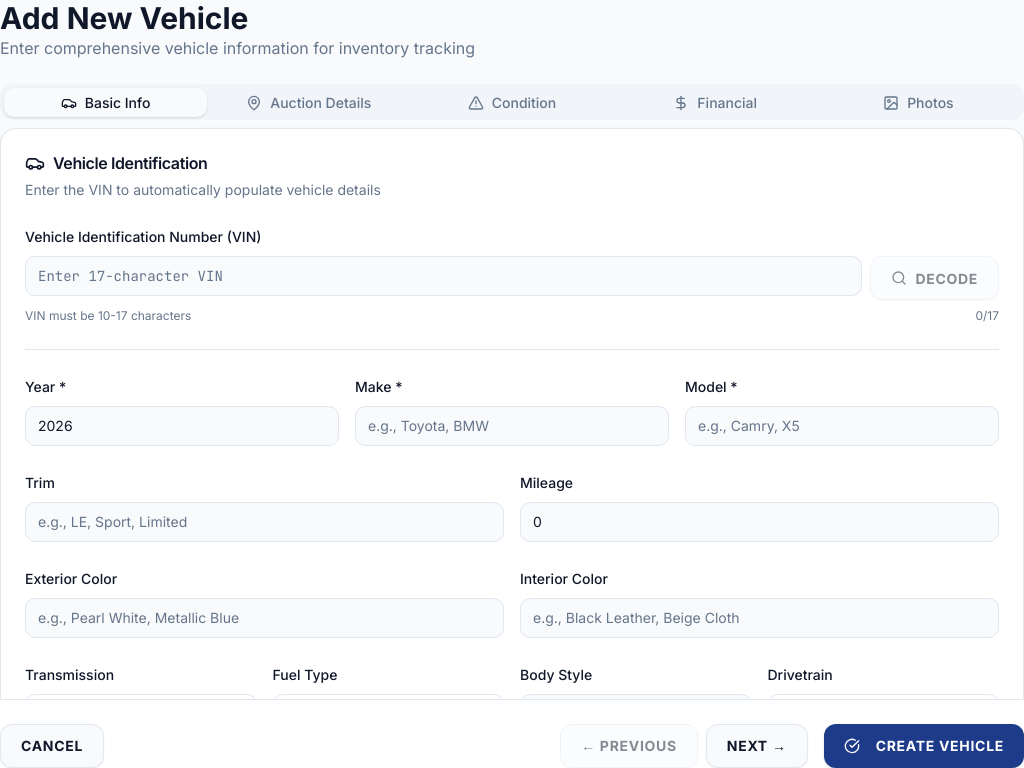
Scenario: VehicleForm › Tab Navigation › should switch between tabs
The width and height of the screenshot is (1024, 768).
# Switch to auction tab
Click the tab "Auction Details".
click(309, 102)  # box [207,88,410,117]
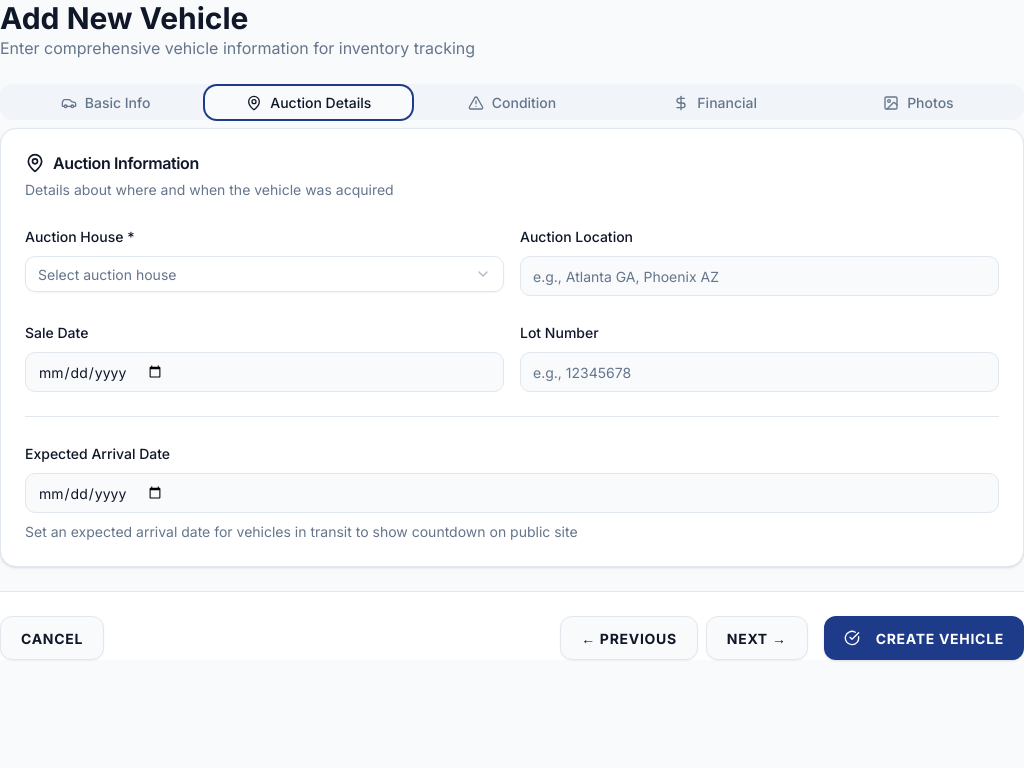
Expected: the text "Auction Information" is shown, [25,153,199,173]
Expected: the dropdown named "Auction House *" is shown, [25,256,504,292]
# Switch to condition tab
Click the tab "Condition".
click(512, 102)  # box [410,88,614,117]
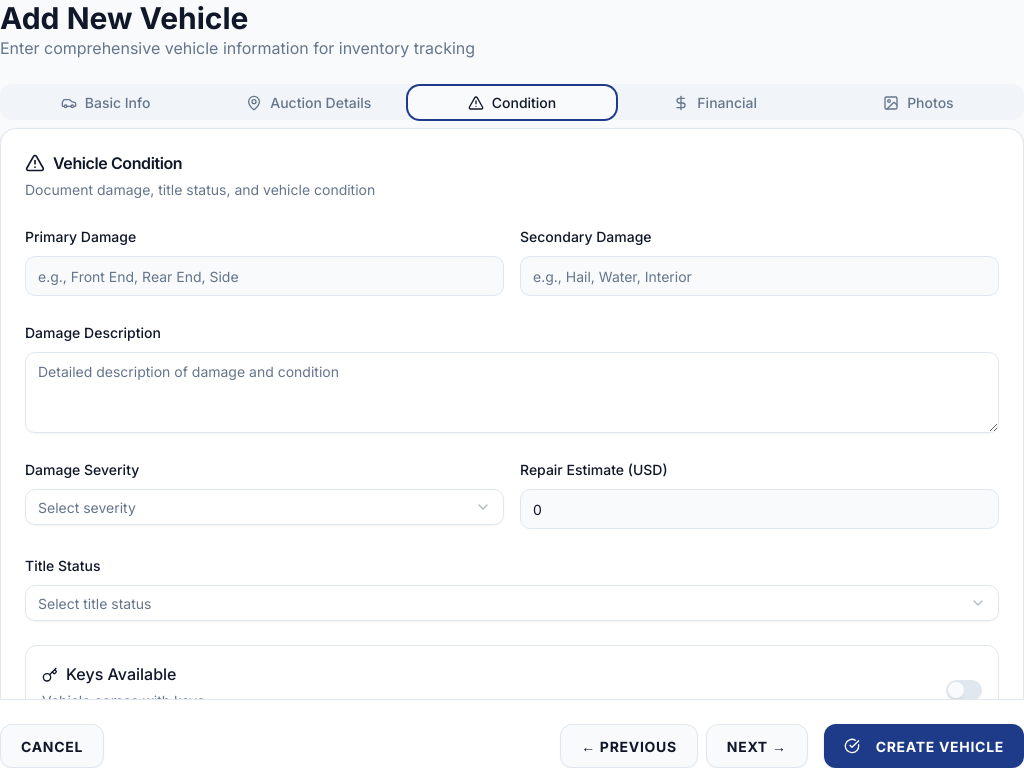
Expected: the text "Vehicle Condition" is shown, [25,153,182,173]
Expected: the field labelled "Primary Damage" is shown, [25,256,504,296]
# Switch to financial tab
Click the tab "Financial".
click(715, 102)  # box [614,88,817,117]
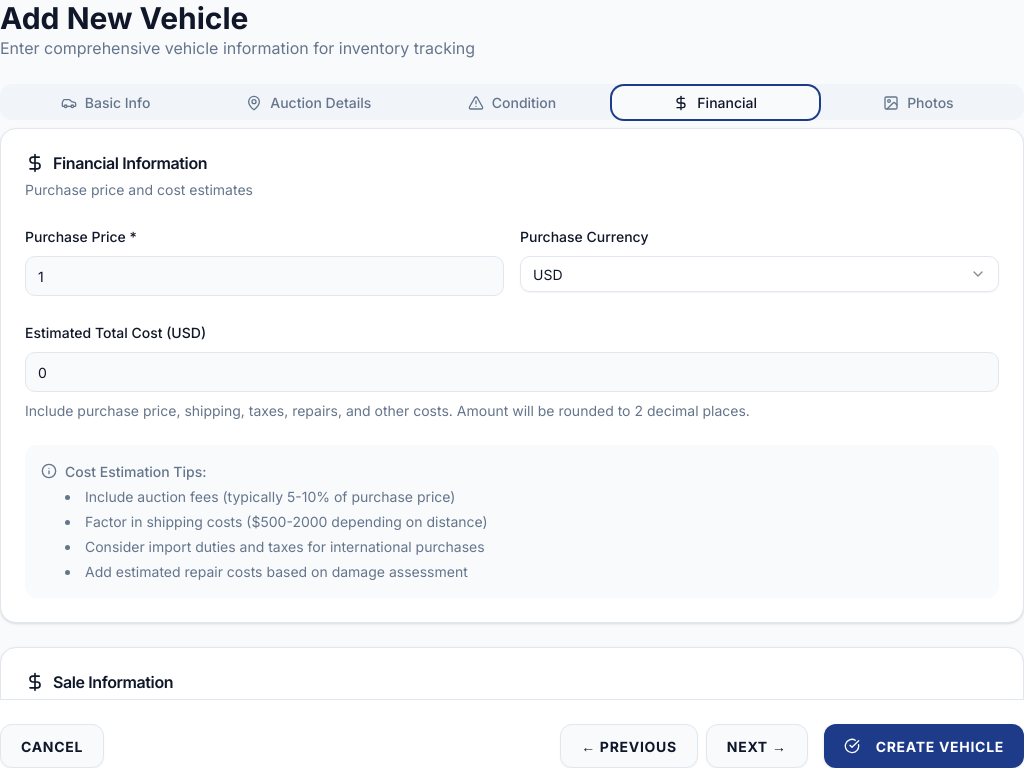
Expected: the text "Financial Information" is shown, [25,153,207,173]
Expected: the number field labelled "Purchase Price *" is shown, [25,256,504,296]
# Switch to photos tab
Click the tab "Photos".
click(918, 102)  # box [817,88,1020,117]
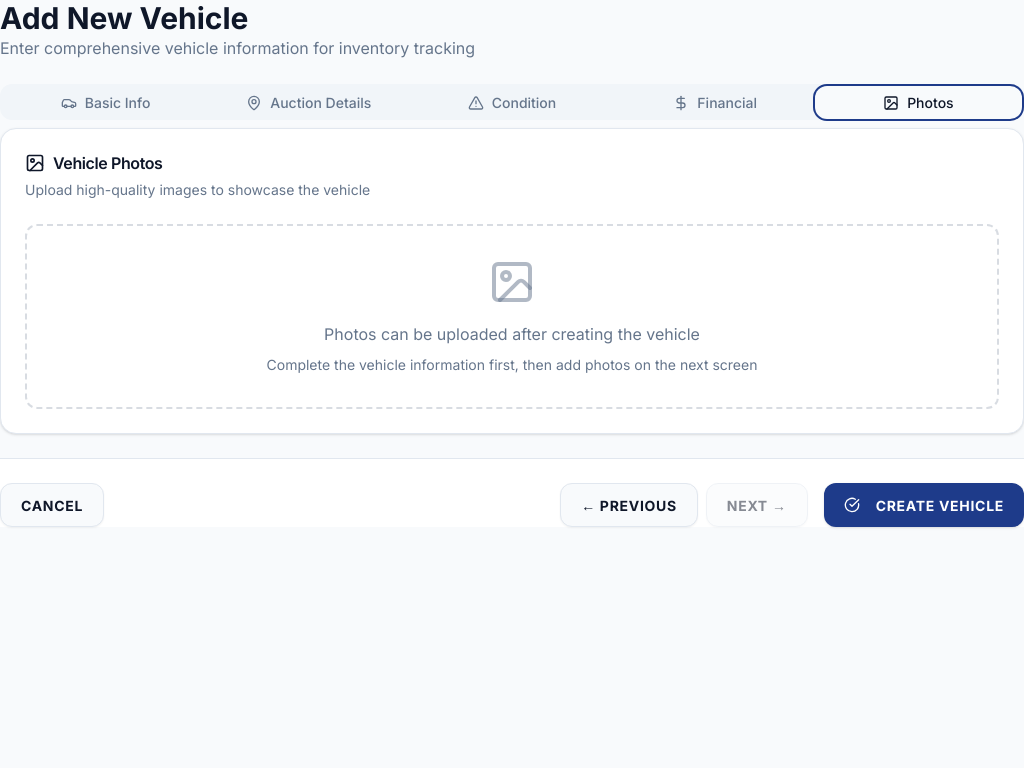
Expected: the text "Vehicle Photos" is shown, [25,153,162,173]
